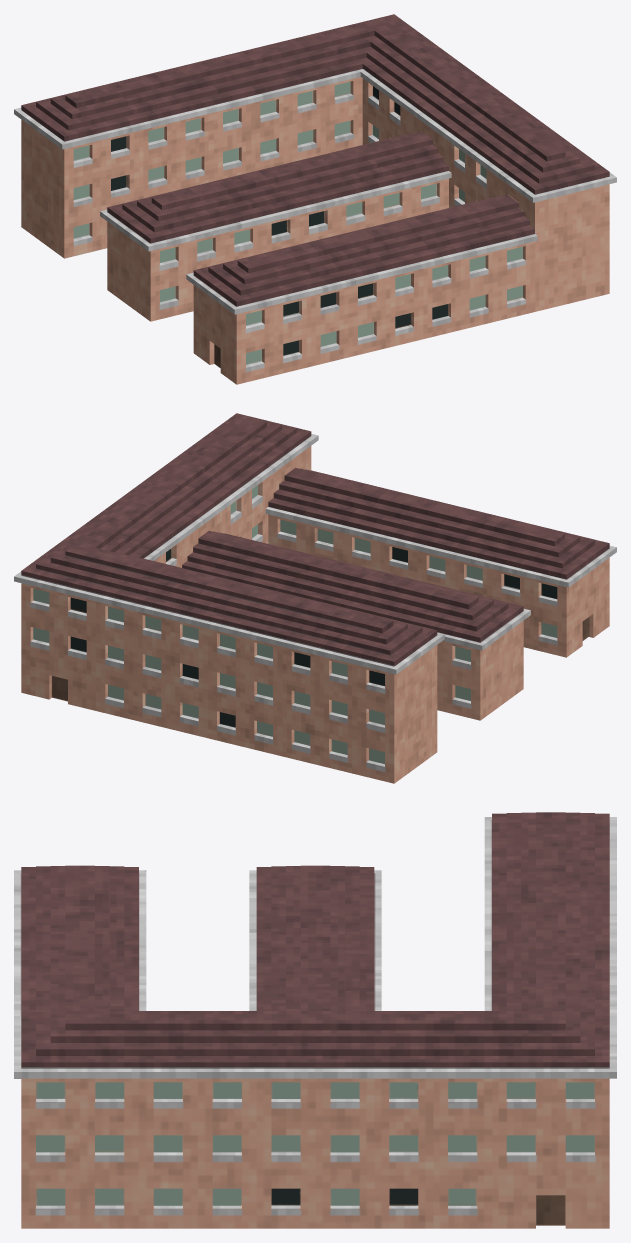
File: bruce.fbx
3 views of the same model, one above another, from view 1: azimuth 30°, elevation 25°; view 2: azimuth 150°, elevation 25°; view 3: azimuth 270°, elevation 25° (orthographic). The views are drawn at different scales.
Parts seen in each view (by area): view 1: Bruce; view 2: Bruce; view 3: Bruce.
Boxes of the visible parts, x1=… form: Bruce: x1=14, y1=14, x2=616, y2=384; Bruce: x1=14, y1=413, x2=616, y2=783; Bruce: x1=14, y1=812, x2=616, y2=1228.
Bounding box in the file's own units: 512 × 175 × 513.
1 material, 1 textured.
